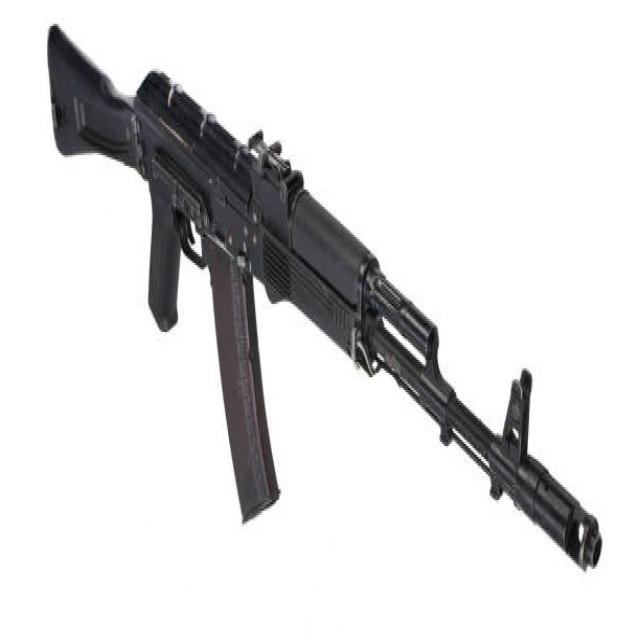rifle: (40, 6, 612, 584)
